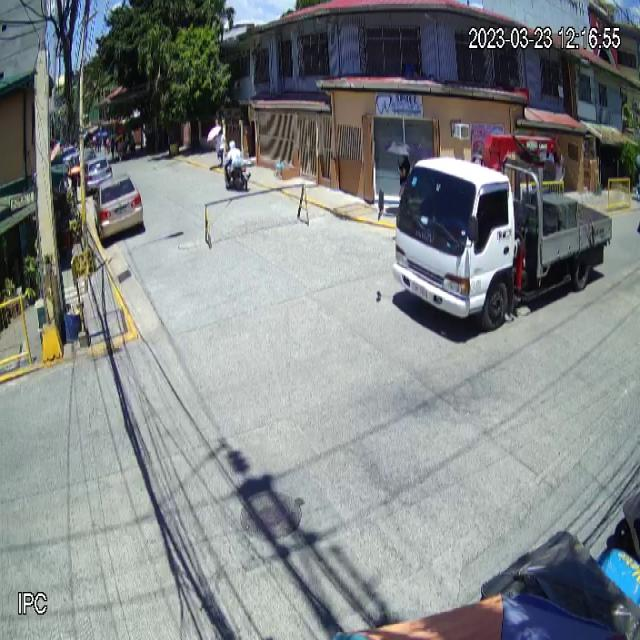Truck: (391, 134, 614, 333)
